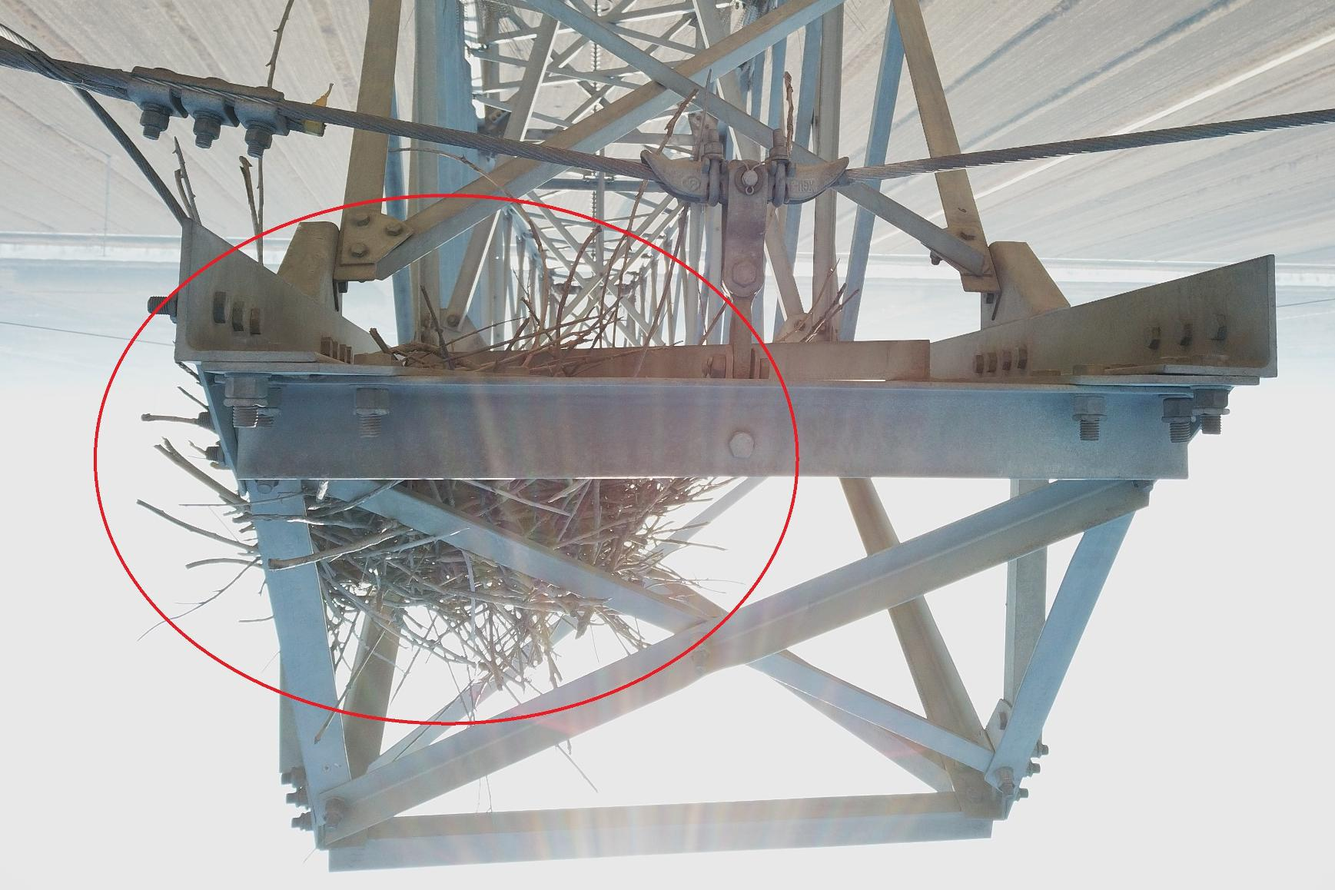nest: (291, 289, 735, 659)
